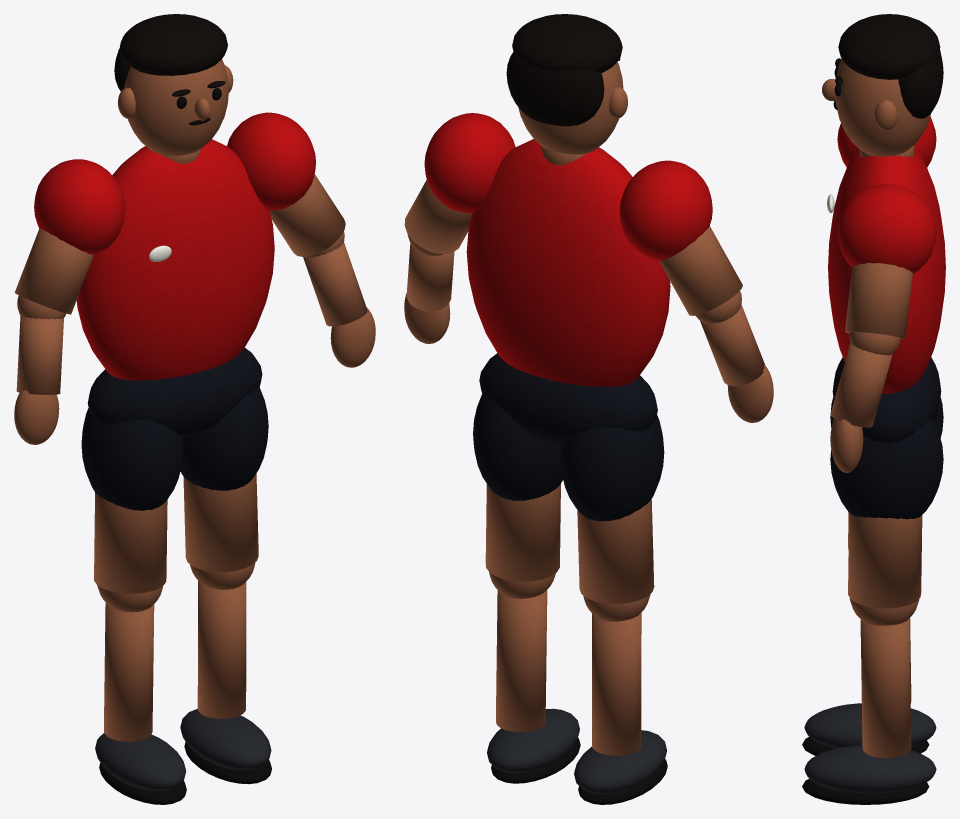
Rendered from jugador_rojo.obj.
3 views of the same model, side by side, from view 1: azimuth 30°, elevation 25°; view 2: azimuth 150°, elevation 25°; view 3: azimuth 270°, elevation 25° (orthographic). The views are drawn at different scales.
Parts seen in each view (by area): view 1: Jugador_Rojo_Torso_Camiseta, Jugador_Rojo_Cintura_Pantalon, Jugador_Rojo_Pernera_Izquierda, Jugador_Rojo_Hombro_Izquierdo, Jugador_Rojo_Cabeza, Jugador_Rojo_Pantorrilla_Izquierda, Jugador_Rojo_Pantorrilla_Derecha, Jugador_Rojo_Muslo_Izquierda, Jugador_Rojo_Muslo_Derecha, Jugador_Rojo_Hombro_Derecho, Jugador_Rojo_Pernera_Derecha, Jugador_Rojo_CabelloSuperior (+13 smaller); view 2: Jugador_Rojo_Torso_Camiseta, Jugador_Rojo_Cintura_Pantalon, Jugador_Rojo_Pernera_Izquierda, Jugador_Rojo_Hombro_Izquierdo, Jugador_Rojo_Pantorrilla_Derecha, Jugador_Rojo_Pantorrilla_Izquierda, Jugador_Rojo_Muslo_Izquierda, Jugador_Rojo_Hombro_Derecho, Jugador_Rojo_Muslo_Derecha, Jugador_Rojo_Pernera_Derecha, Jugador_Rojo_CabelloSuperior, Jugador_Rojo_CabelloTrasero (+14 smaller); view 3: Jugador_Rojo_Torso_Camiseta, Jugador_Rojo_Pernera_Derecha, Jugador_Rojo_Hombro_Derecho, Jugador_Rojo_Pantorrilla_Derecha, Jugador_Rojo_Muslo_Derecha, Jugador_Rojo_CabelloSuperior, Jugador_Rojo_Cabeza, Jugador_Rojo_Zapatilla_Derecha, Jugador_Rojo_BrazoSuperior_Derecho, Jugador_Rojo_Cintura_Pantalon, Jugador_Rojo_Antebrazo_Derecho, Jugador_Rojo_Zapatilla_Izquierda (+8 smaller).
Part boxes in pixels (x1,y1,x2,y2): Jugador_Rojo_Torso_Camiseta: (76,139,274,380); Jugador_Rojo_Cintura_Pantalon: (87,348,262,438); Jugador_Rojo_Pernera_Izquierda: (81,408,183,510); Jugador_Rojo_Hombro_Izquierdo: (34,159,125,255); Jugador_Rojo_Cabeza: (124,59,228,155); Jugador_Rojo_Pantorrilla_Izquierda: (104,603,154,741); Jugador_Rojo_Pantorrilla_Derecha: (197,580,246,718); Jugador_Rojo_Muslo_Izquierda: (94,492,167,593); Jugador_Rojo_Muslo_Derecha: (183,473,258,572); Jugador_Rojo_Hombro_Derecho: (227,112,315,210); Jugador_Rojo_Pernera_Derecha: (180,387,268,490); Jugador_Rojo_CabelloSuperior: (120,14,227,75); Jugador_Rojo_Torso_Camiseta: (466,139,670,386); Jugador_Rojo_Cintura_Pantalon: (479,353,657,445); Jugador_Rojo_Pernera_Izquierda: (560,415,664,521); Jugador_Rojo_Hombro_Izquierdo: (619,160,712,260); Jugador_Rojo_Pantorrilla_Derecha: (496,590,547,732); Jugador_Rojo_Pantorrilla_Izquierda: (592,612,641,755); Jugador_Rojo_Muslo_Izquierda: (577,499,654,603); Jugador_Rojo_Hombro_Derecho: (424,113,515,213); Jugador_Rojo_Muslo_Derecha: (485,484,560,581); Jugador_Rojo_Pernera_Derecha: (473,394,563,500); Jugador_Rojo_CabelloSuperior: (512,14,622,73); Jugador_Rojo_CabelloTrasero: (506,51,604,126); Jugador_Rojo_Torso_Camiseta: (828,147,945,393); Jugador_Rojo_Pernera_Derecha: (830,419,943,519); Jugador_Rojo_Hombro_Derecho: (837,184,936,273); Jugador_Rojo_Pantorrilla_Derecha: (860,619,911,758); Jugador_Rojo_Muslo_Derecha: (848,512,922,608); Jugador_Rojo_CabelloSuperior: (838,14,940,79); Jugador_Rojo_Cabeza: (835,59,931,156); Jugador_Rojo_Zapatilla_Derecha: (804,745,936,793); Jugador_Rojo_BrazoSuperior_Derecho: (845,262,912,339); Jugador_Rojo_Cintura_Pantalon: (832,357,941,443); Jugador_Rojo_Antebrazo_Derecho: (830,342,892,427); Jugador_Rojo_Zapatilla_Izquierda: (804,703,936,748).
Bounding box in the file's own units: 0.884 × 1.76 × 0.305.
7 materials, 5 textured.
